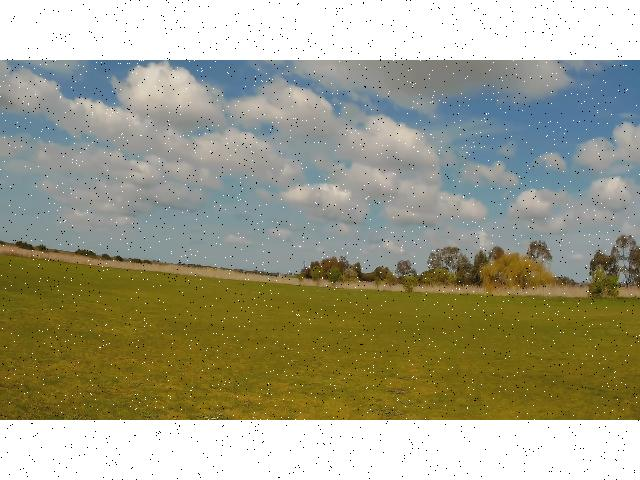Anti-Drone: (354, 186, 382, 212)
